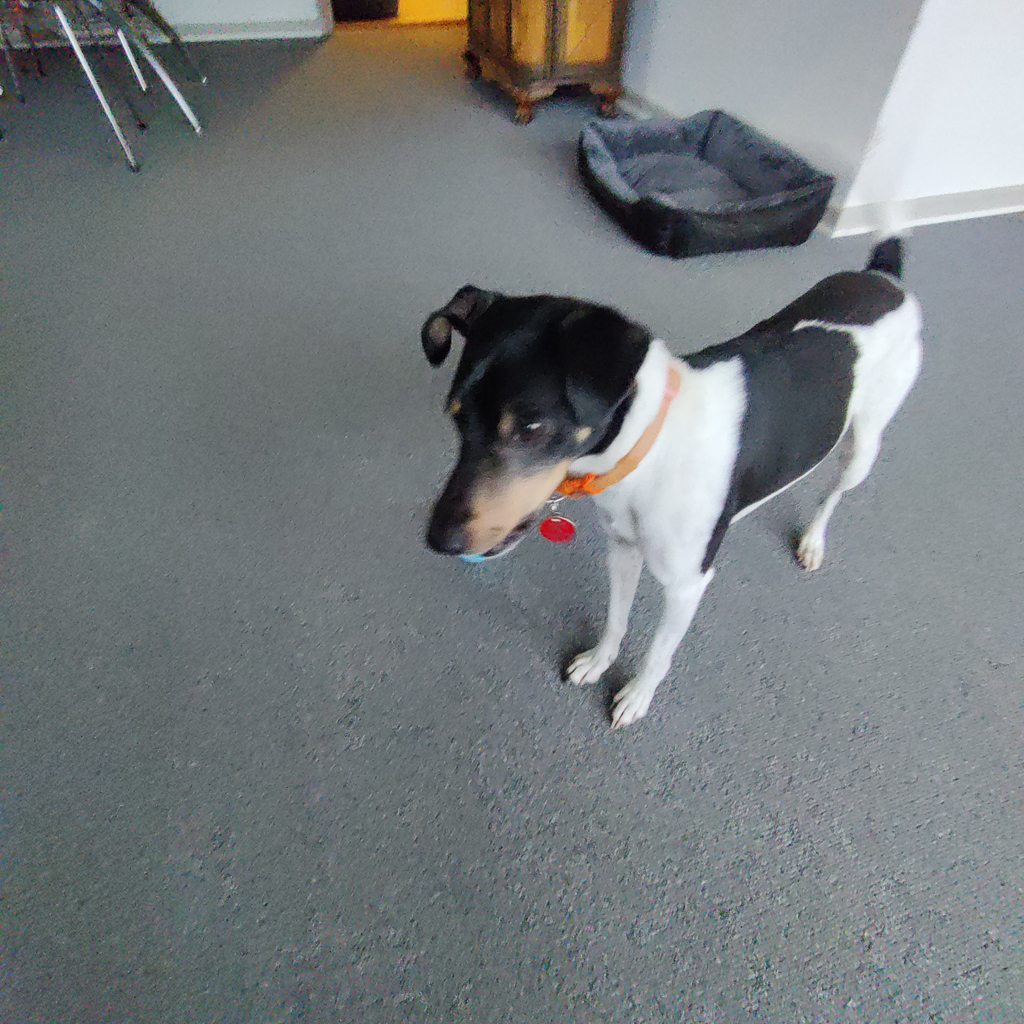Dog: (363, 81, 982, 764)
